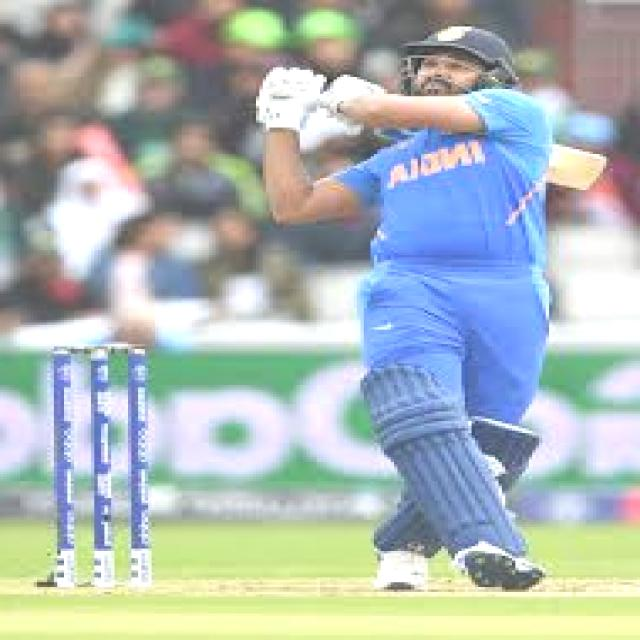toe: (556, 150, 606, 202)
